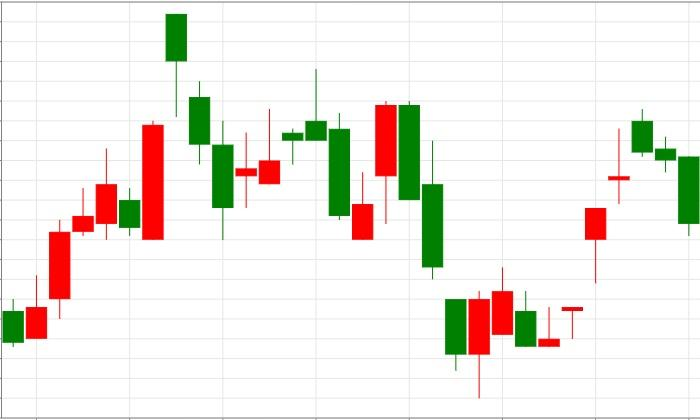bullish_engulfing_rise: (374, 101, 490, 398)
three_black_crows_fall: (2, 13, 234, 346)
